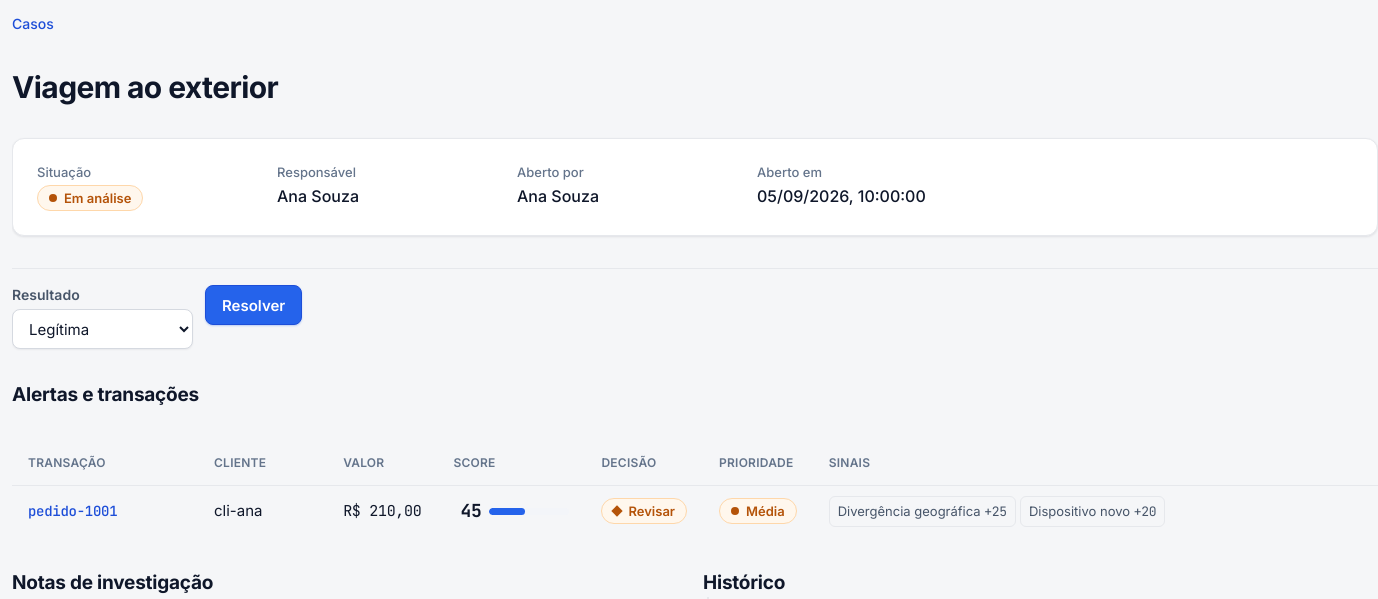
it: workspace do caso › avisa quando a ação é recusada, em vez de engolir o erro
Check: the heading "Viagem ao exterior" is shown, box x1=12 y1=69 x2=278 y2=105
Click the button "Resolver": [254, 305] box x1=205 y1=285 x2=302 y2=325
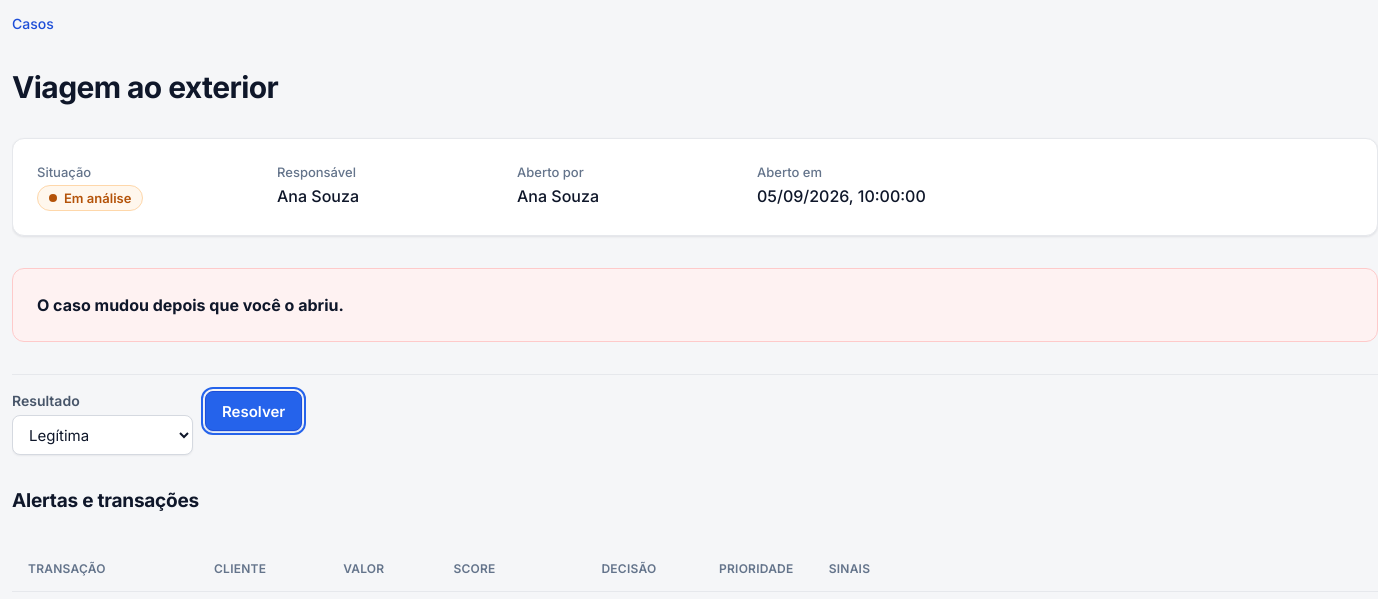
Check: the message "O caso mudou depois que você o abriu." is shown, box x1=12 y1=268 x2=1377 y2=342
